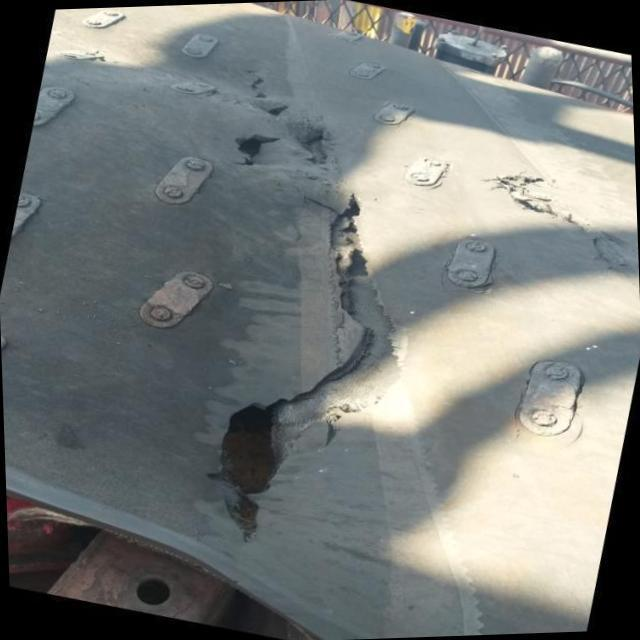Tear: (202, 189, 411, 546), (486, 165, 638, 283), (224, 125, 286, 172), (298, 118, 343, 175), (243, 66, 273, 100), (261, 101, 296, 120)
